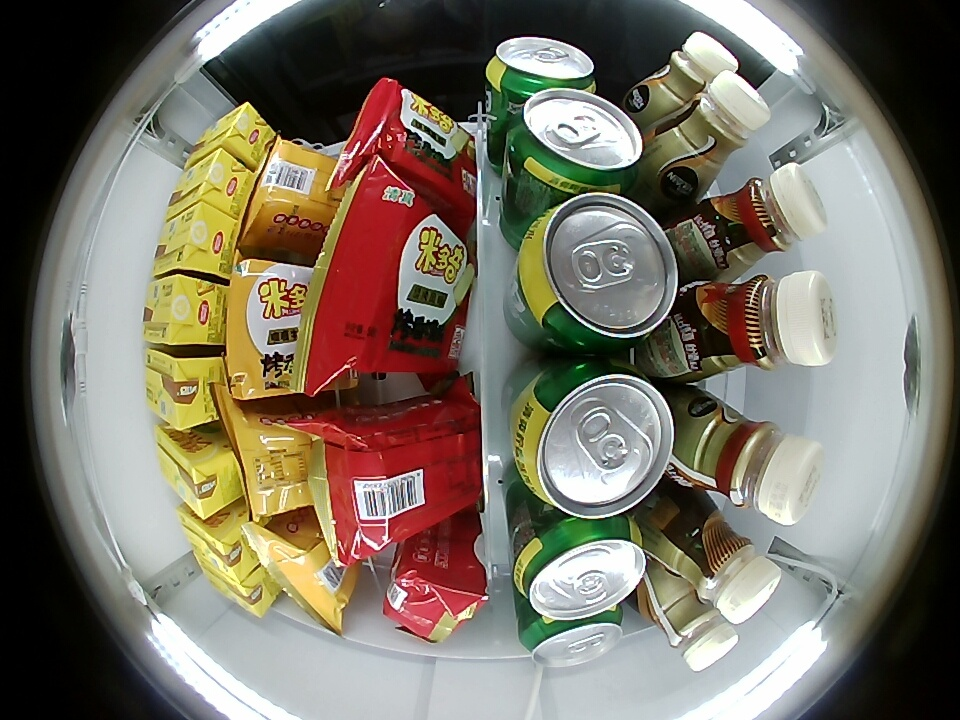kafei: (671, 395, 824, 525), (683, 271, 838, 377), (698, 163, 828, 275), (673, 507, 780, 624), (669, 71, 770, 191), (630, 32, 738, 118), (653, 592, 739, 671)
kaomo_gali: (224, 260, 318, 399), (248, 516, 359, 620), (246, 137, 349, 246), (232, 410, 322, 518)
kaomo_shaokao: (305, 186, 475, 381), (317, 398, 481, 556), (341, 78, 477, 213), (382, 520, 488, 641)
weitaningmeng: (155, 427, 234, 519), (175, 503, 272, 577), (152, 200, 233, 277), (143, 349, 218, 432), (193, 553, 281, 619), (143, 274, 214, 345), (167, 148, 242, 215), (193, 102, 267, 164)
xuebi2: (510, 360, 675, 520), (512, 192, 677, 350), (505, 88, 644, 197), (512, 517, 647, 620), (486, 36, 597, 99), (520, 610, 623, 667)
